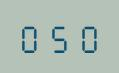five: (46, 20, 72, 53)
zero: (18, 20, 44, 53), (73, 20, 99, 53)
